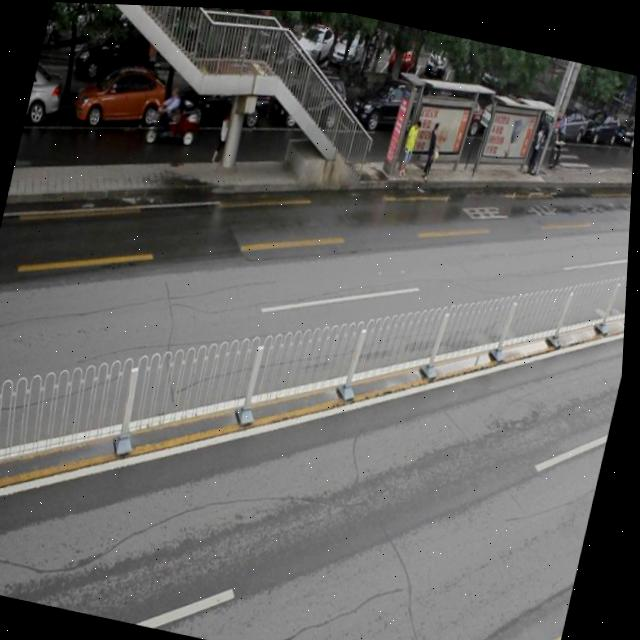car: (72, 59, 174, 141), (172, 63, 277, 136), (348, 69, 436, 141), (271, 64, 354, 139), (25, 66, 68, 130)
